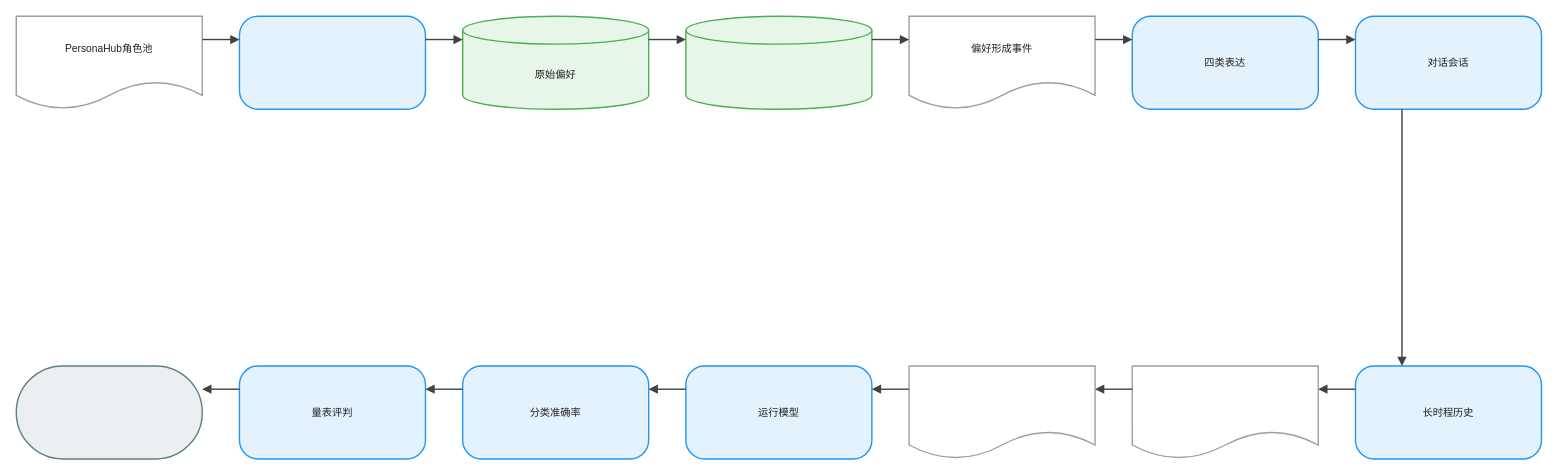
Image size: 1559x476. Some labels were removed from this diagram. The shapes that lost their labels are listed below. From the top down, each one's centre as x and y in pixels, then its label:
point 332,62: 用户画像
point 778,62: 泛化偏好
point 109,412: 切分结果
point 1001,412: 泛化场景问题
point 1225,412: 原始偏好问题
